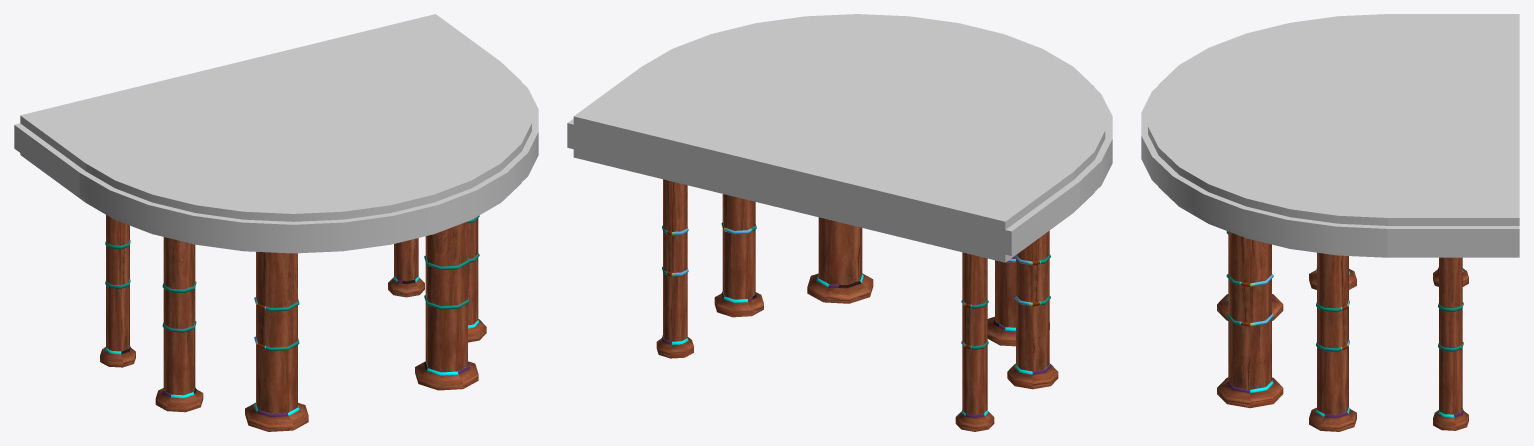
The model's file is lobbyDesk_overhead.FBX.
3 views of the same model, side by side, from view 1: azimuth 30°, elevation 25°; view 2: azimuth 150°, elevation 25°; view 3: azimuth 270°, elevation 25° (orthographic). The views are drawn at different scales.
Visible parts, largest first — view 1: Cylinder001, column_large_001, column_large_002, column_medium_001, column_medium_002, column_medium_004, column_medium_003; view 2: Cylinder001, column_medium_001, column_medium_002, column_medium_004, column_medium_003, column_large_002, column_large_001; view 3: Cylinder001, column_large_002, column_medium_003, column_medium_004, column_large_001.
Boxes of the visible parts, left/top/right/bottom form: Cylinder001: left=14, top=14, right=538, bottom=253; column_large_001: left=245, top=252, right=308, bottom=431; column_large_002: left=415, top=221, right=478, bottom=390; column_medium_001: left=155, top=237, right=203, bottom=412; column_medium_002: left=100, top=215, right=135, bottom=367; column_medium_004: left=388, top=238, right=424, bottom=297; column_medium_003: left=468, top=215, right=486, bottom=342; Cylinder001: left=567, top=14, right=1112, bottom=262; column_medium_001: left=1007, top=230, right=1058, bottom=389; column_medium_002: left=955, top=252, right=994, bottom=431; column_medium_004: left=656, top=179, right=693, bottom=358; column_medium_003: left=714, top=194, right=763, bottom=317; column_large_002: left=807, top=217, right=873, bottom=303; column_large_001: left=987, top=256, right=1049, bottom=346; Cylinder001: left=1141, top=14, right=1519, bottom=257; column_large_002: left=1217, top=231, right=1283, bottom=408; column_medium_003: left=1309, top=252, right=1356, bottom=431; column_medium_004: left=1433, top=257, right=1468, bottom=430; column_large_001: left=1217, top=231, right=1283, bottom=320.
Size of the model in its own units: 446 by 340 by 235.
Materials: 2 (2 with a texture image).
